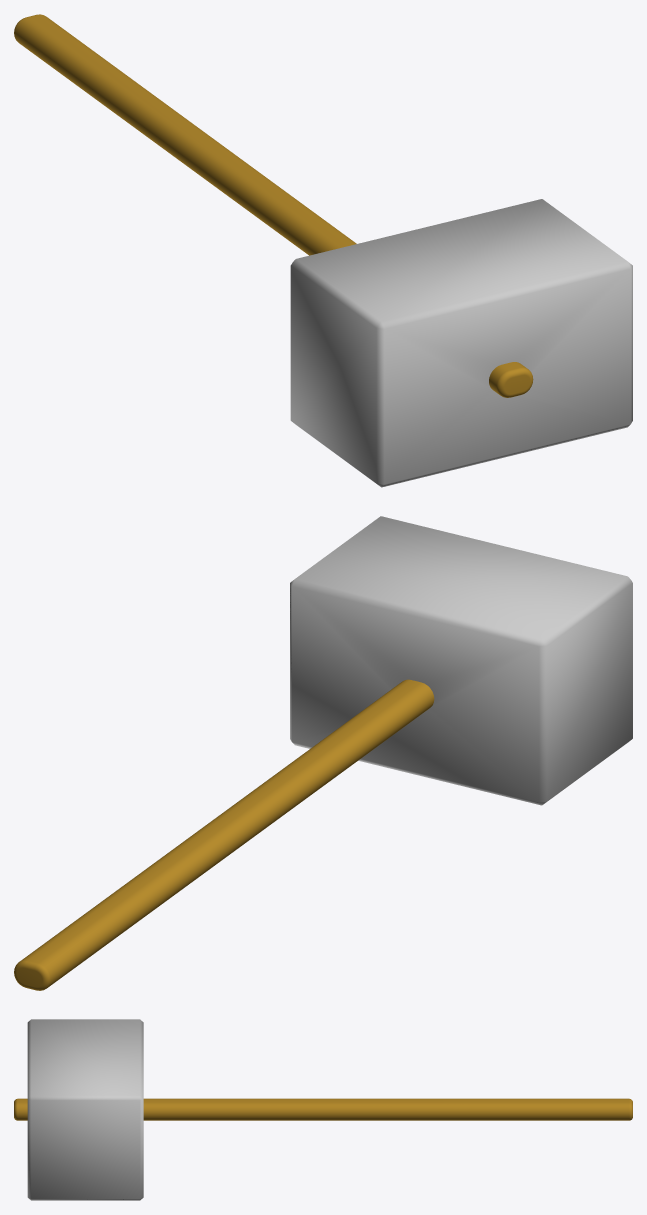
The model's file is mallet_01_origin.dae.
3 views of the same model, one above another, from view 1: azimuth 30°, elevation 25°; view 2: azimuth 150°, elevation 25°; view 3: azimuth 270°, elevation 25° (orthographic). The views are drawn at different scales.
Parts seen in each view (by area): view 1: Hammer (×3); view 2: Hammer (×2); view 3: Hammer (×3).
Part boxes in pixels (x1,y1,x2,y2): Hammer (×3): (14, 14, 632, 487); Hammer (×2): (14, 516, 632, 990); Hammer (×3): (14, 1019, 632, 1200).
Bounding box in the file's own units: 3.25 × 10.69 × 2.01.
